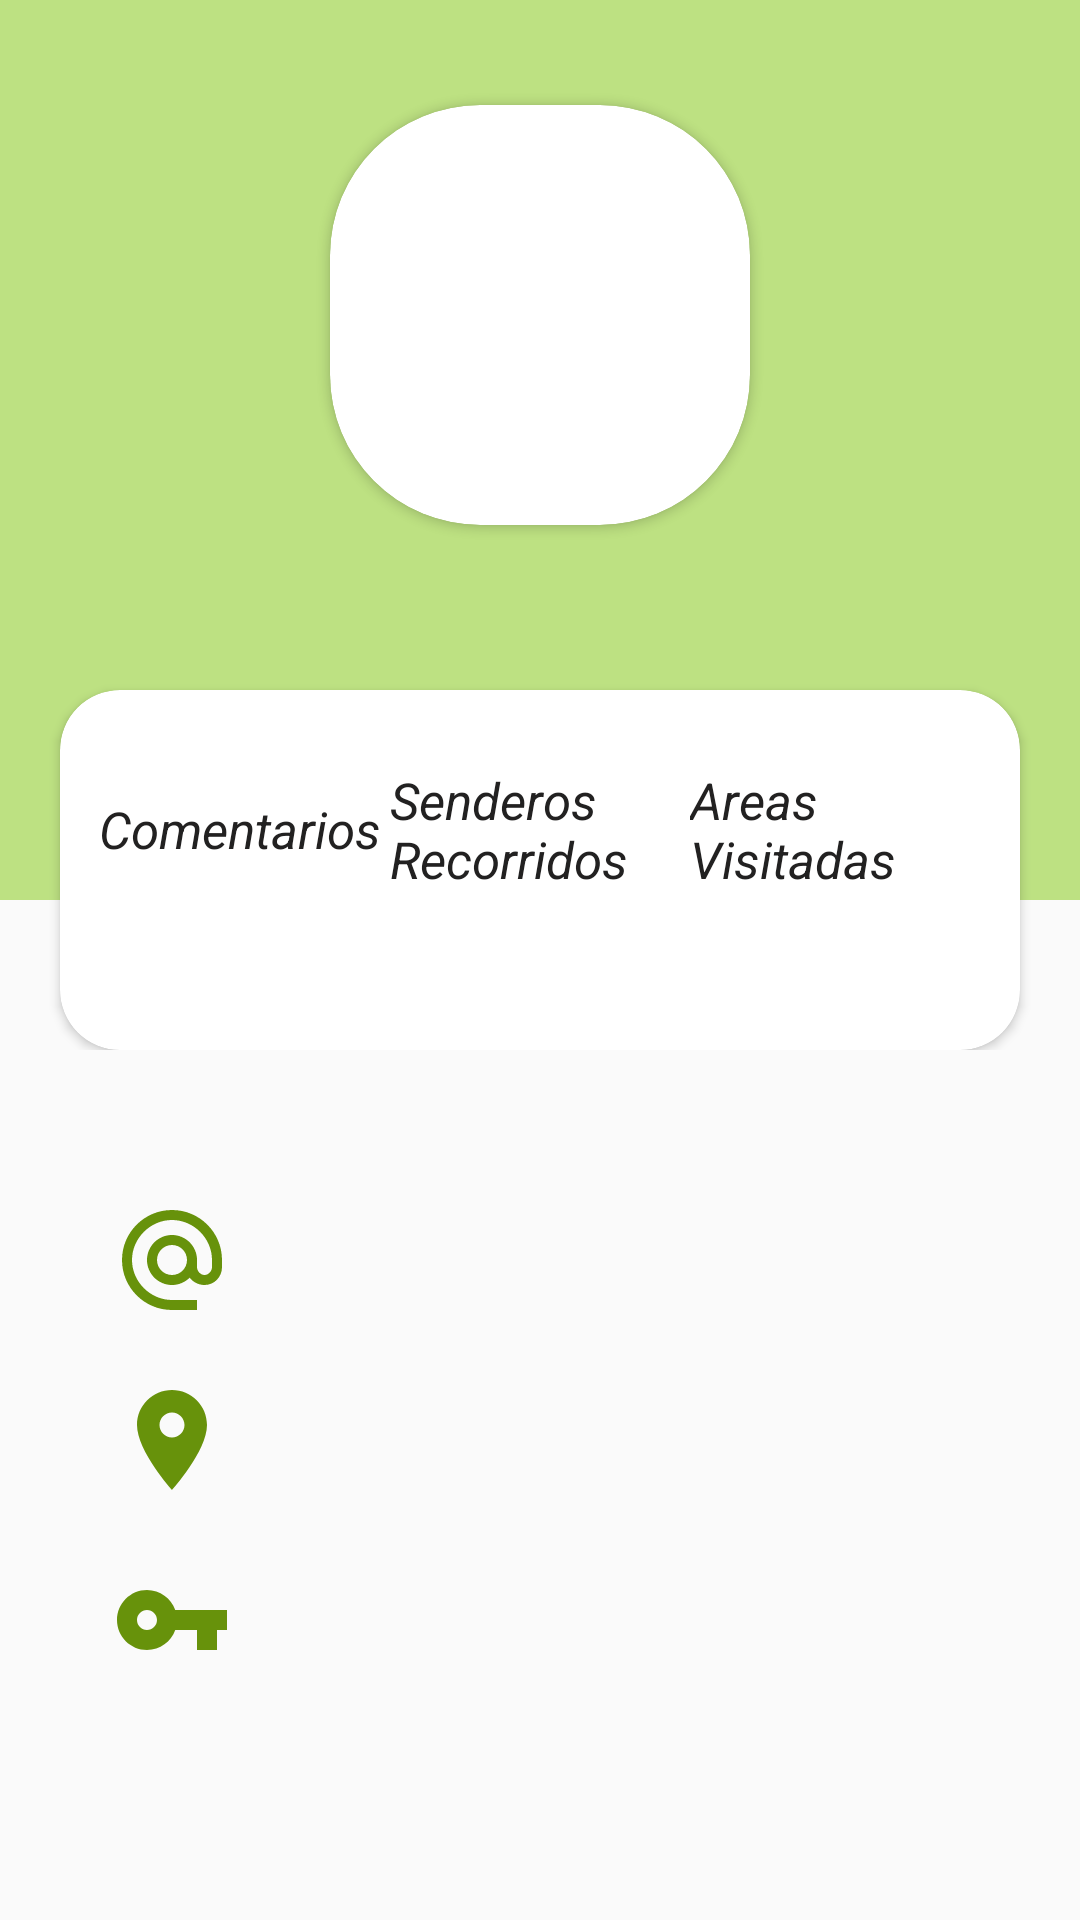

Where icons sit on this 1080×1920 app screen, as Rect(x1, y1, x2, y2):
email: Rect(122, 1210, 222, 1310)
key: Rect(117, 1590, 227, 1650)
place: Rect(137, 1390, 207, 1490)
